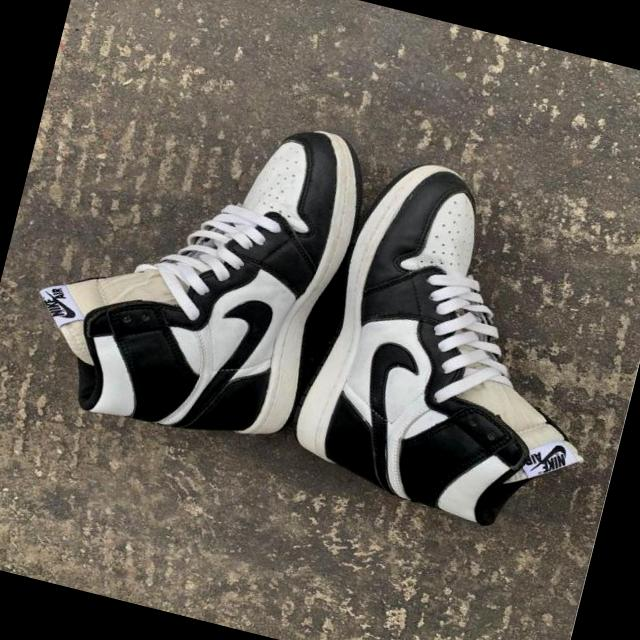nike_fake_jordan: (276, 143, 640, 549), (16, 70, 378, 470)
